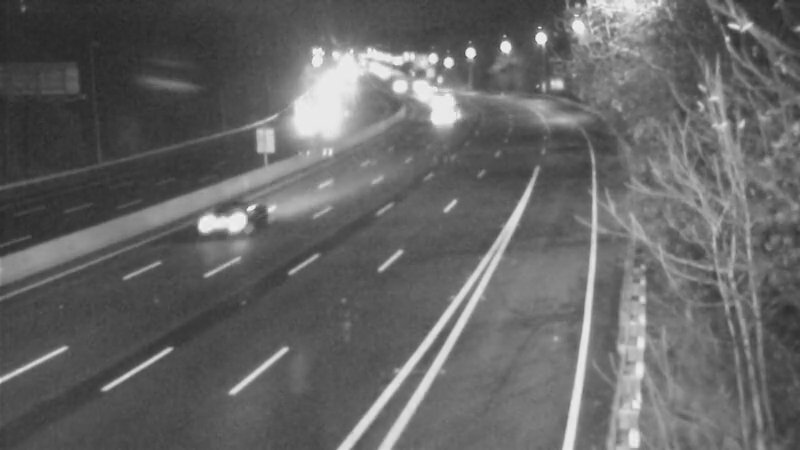vehicle: (189, 177, 269, 257), (377, 61, 427, 111), (404, 70, 454, 120), (421, 75, 471, 125), (419, 89, 469, 139), (282, 98, 332, 148)
